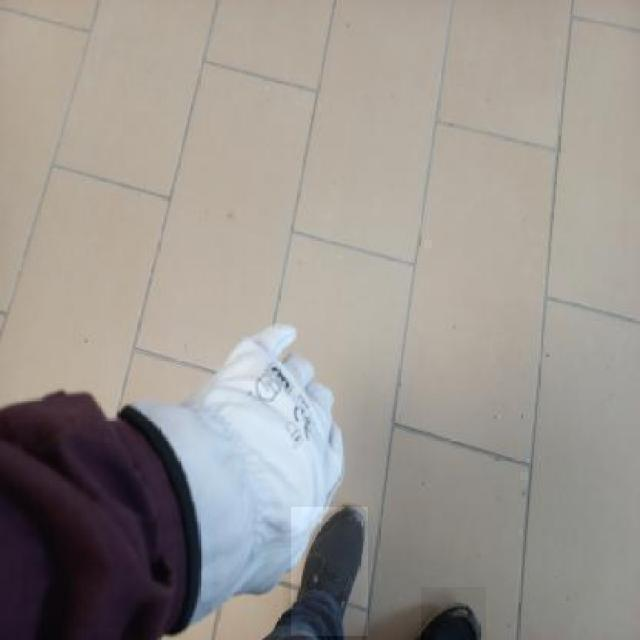Gloves: (104, 294, 375, 618)
Safety Boot: (291, 507, 368, 636), (421, 587, 486, 640)
